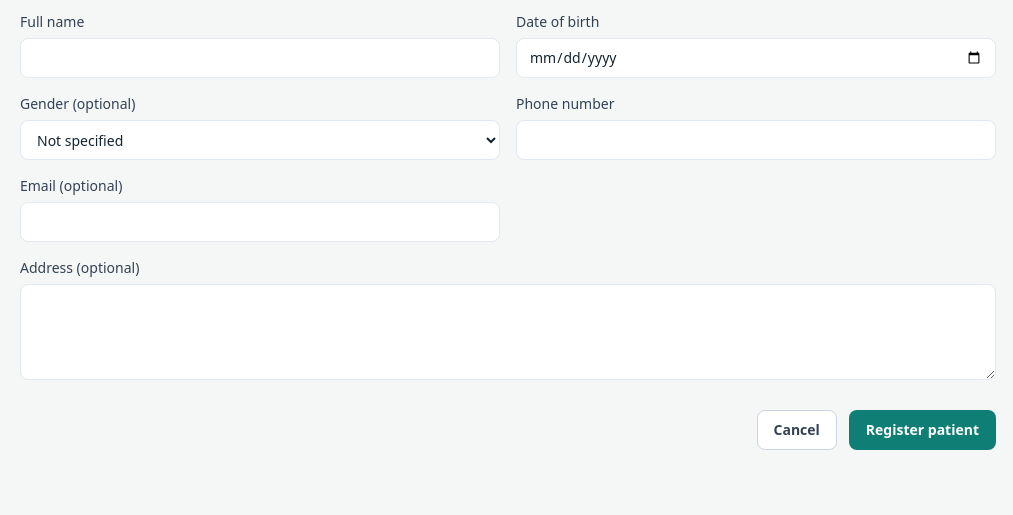
it: validates required patient fields
Click the button "Register patient": point(922, 430) left=849, top=410, right=996, bottom=450
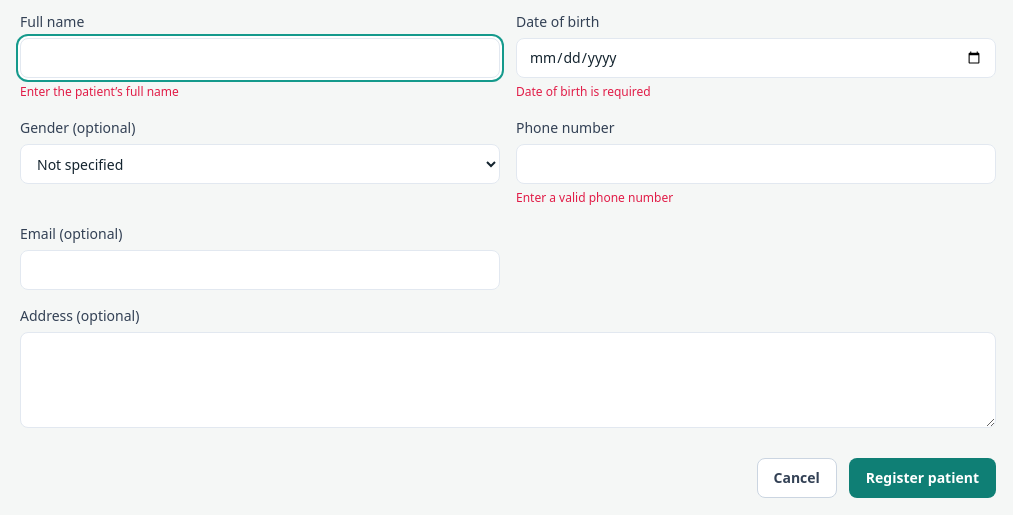
expect the text "Enter the patient’s full name" is shown: met, box left=20, top=83, right=179, bottom=100
expect the text "Date of birth is required" is shown: met, box left=516, top=83, right=651, bottom=100
